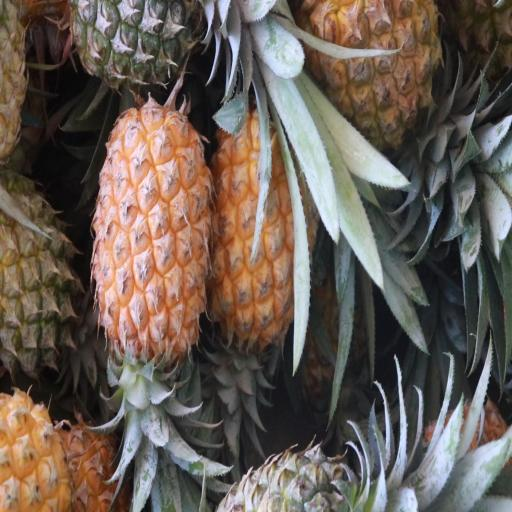Pineapple - v8 v1: (92, 106, 212, 360), (208, 108, 314, 342), (306, 0, 439, 160)
